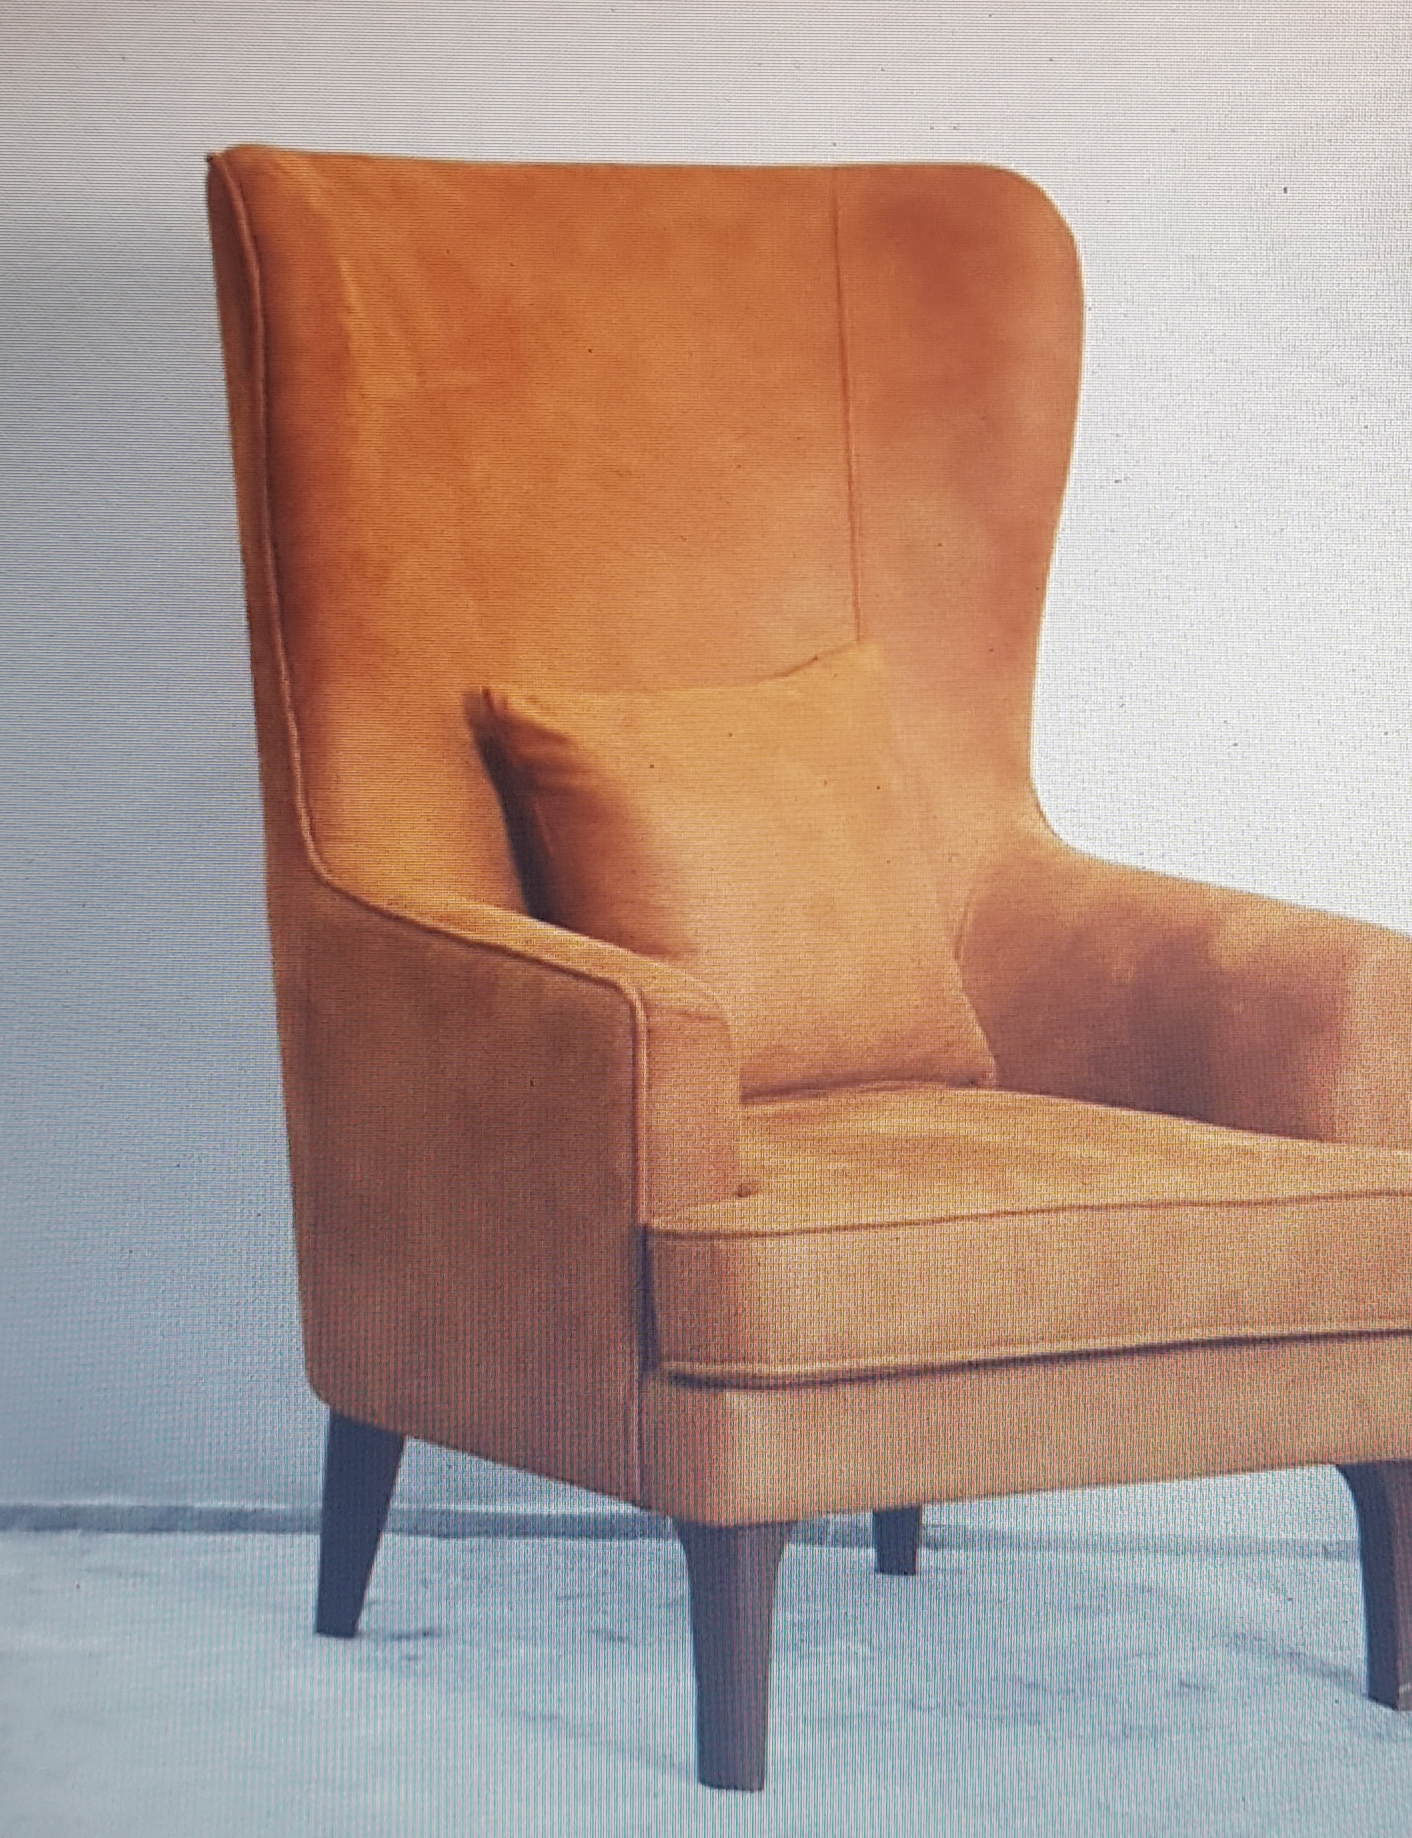Brown: (196, 136, 1412, 1529)
